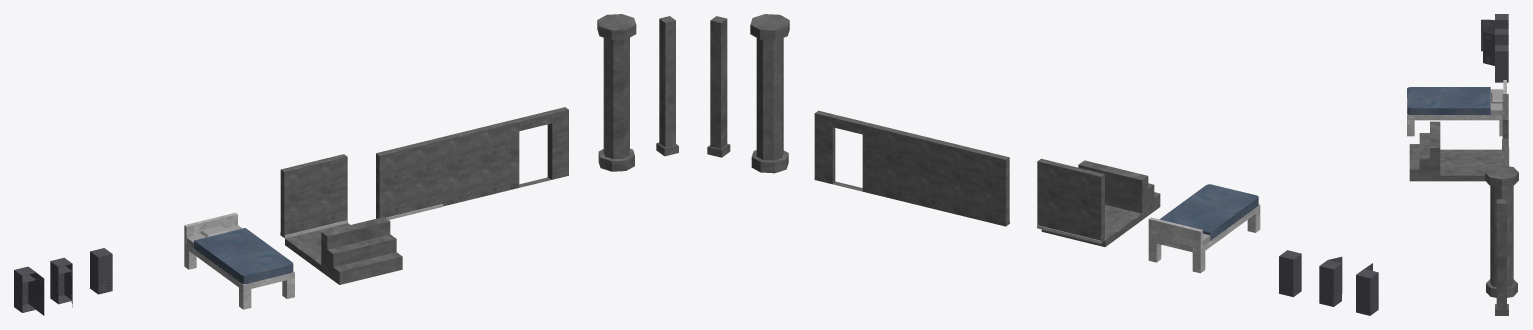
File: Assigment3.fbx
The picture shows the model from 3 angles, left to right: view 1: azimuth 30°, elevation 25°; view 2: azimuth 150°, elevation 25°; view 3: azimuth 270°, elevation 25°; orthographic projection. The views are drawn at different scales.
Visible parts, largest first — view 1: WallTrimDoubleSide, WallWTrim, Cylinder, Wall, Cube.002, Covers, Door, Cube.001, BedFrame, Cube.005, Floor, Cube.003 (+1 smaller); view 2: WallTrimDoubleSide, WallWTrim, Cylinder, Wall, Door, Covers, Cube.001, BedFrame, Cube.002, Floor, Cube.003, Cube.005 (+1 smaller); view 3: Cylinder, Covers, Floor, Cube.002, Cube.001, BedFrame, Cube.003, Cube, Cube.005, WallTrimDoubleSide, Matress, WallWTrim (+1 smaller).
Boxes of the visible parts, left/top/right/bottom form: WallTrimDoubleSide: left=280, top=154, right=347, bottom=238; WallWTrim: left=376, top=138, right=442, bottom=219; Cylinder: left=597, top=14, right=636, bottom=171; Wall: left=439, top=122, right=505, bottom=206; Cube.002: left=321, top=216, right=402, bottom=284; Covers: left=194, top=228, right=293, bottom=283; Door: left=502, top=107, right=568, bottom=190; Cube.001: left=656, top=16, right=678, bottom=156; BedFrame: left=184, top=212, right=294, bottom=309; Cube.005: left=14, top=266, right=44, bottom=315; Floor: left=285, top=223, right=349, bottom=271; Cube.003: left=50, top=257, right=72, bottom=307; WallTrimDoubleSide: left=1037, top=158, right=1105, bottom=243; WallWTrim: left=942, top=142, right=1009, bottom=226; Cylinder: left=750, top=14, right=789, bottom=173; Wall: left=878, top=126, right=945, bottom=210; Door: left=814, top=110, right=881, bottom=195; Covers: left=1159, top=184, right=1258, bottom=240; Cube.001: left=707, top=16, right=730, bottom=157; BedFrame: left=1148, top=204, right=1260, bottom=273; Cube.002: left=1078, top=160, right=1160, bottom=219; Floor: left=1041, top=204, right=1141, bottom=246; Cube.003: left=1319, top=256, right=1342, bottom=306; Cube.005: left=1356, top=263, right=1378, bottom=315; Cylinder: left=1485, top=165, right=1518, bottom=297; Covers: left=1407, top=87, right=1490, bottom=114; Floor: left=1440, top=149, right=1501, bottom=181; Cube.002: left=1409, top=121, right=1440, bottom=181; Cube.001: left=1495, top=199, right=1508, bottom=315; BedFrame: left=1407, top=80, right=1506, bottom=136; Cube.003: left=1483, top=29, right=1508, bottom=65; Cube: left=1495, top=45, right=1508, bottom=82; Cube.005: left=1481, top=14, right=1508, bottom=51; WallTrimDoubleSide: left=1502, top=94, right=1509, bottom=166; Matress: left=1490, top=89, right=1503, bottom=114; WallWTrim: left=1502, top=138, right=1507, bottom=164.
Size of the model in its own units: 2080 by 430 by 363.
